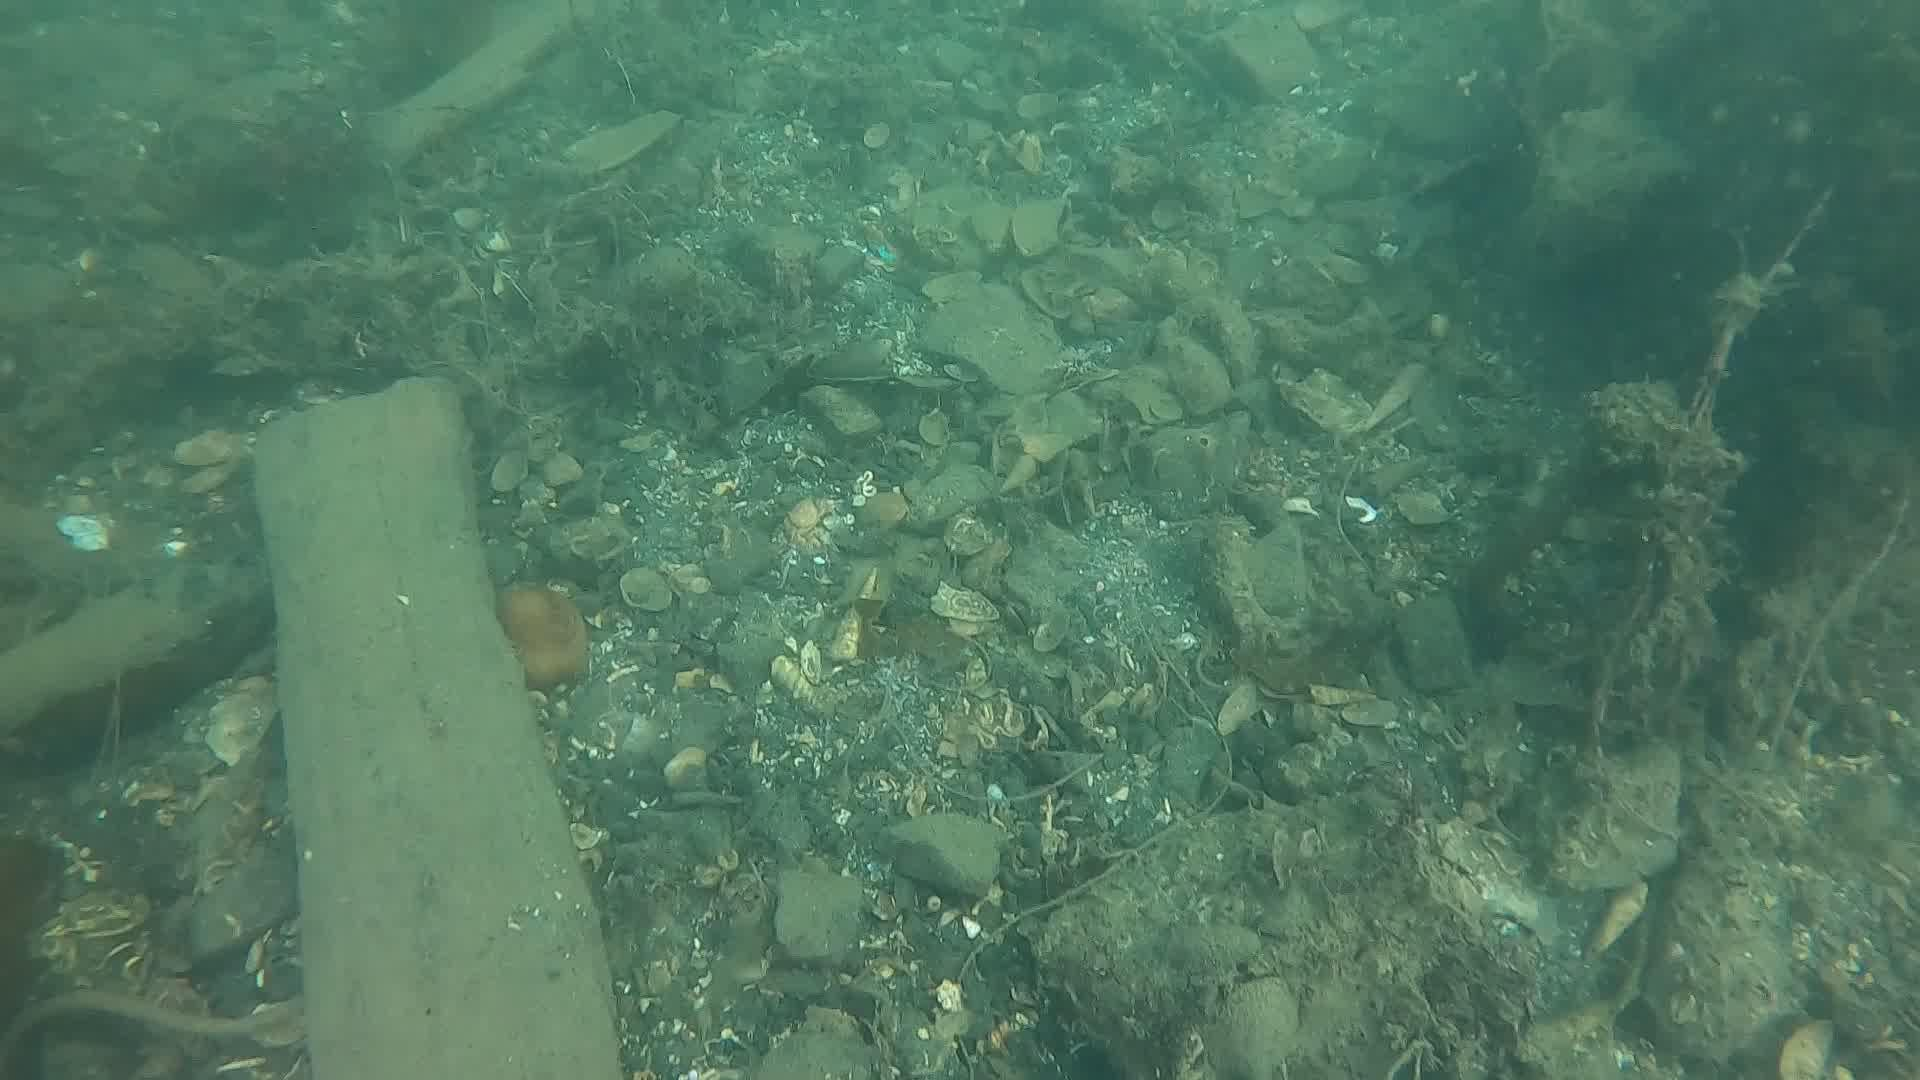wood: (248, 372, 629, 1080)
